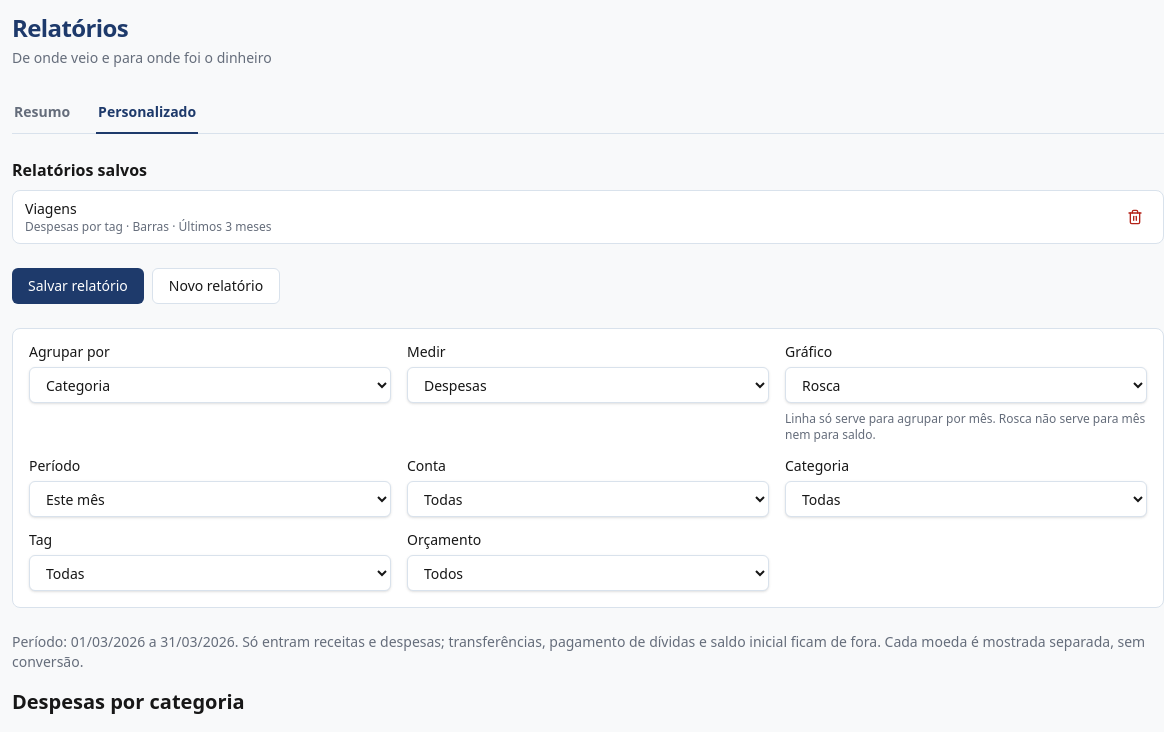
it: abrir um relatorio salvo monta o relatorio e marca como aberto
Click the button with aria-label "Abrir Viagens".
click(51, 208)  # box [25, 199, 1111, 235]
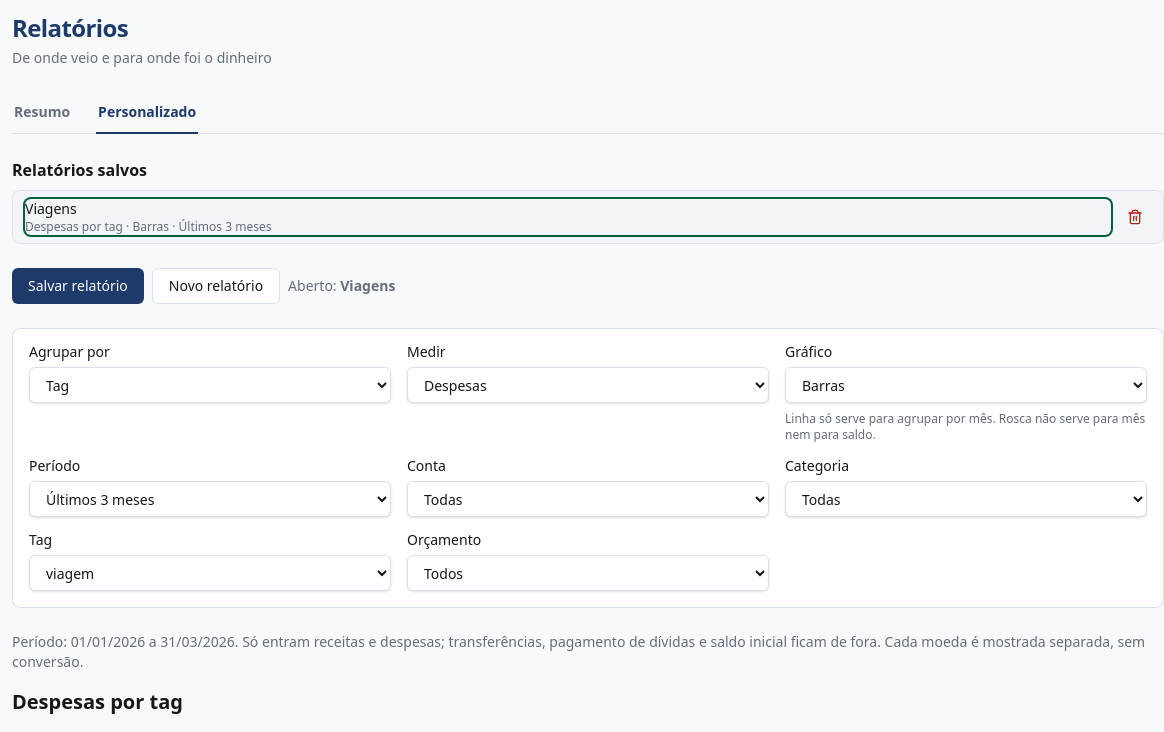
Check: the dropdown labelled "Agrupar por" shows "Tag", box [29, 367, 391, 403]
Check: the dropdown labelled "Gráfico" shows "Barras", box [785, 367, 1147, 403]
Check: the dropdown labelled "Período" shows "Últimos 3 meses", box [29, 481, 391, 517]
